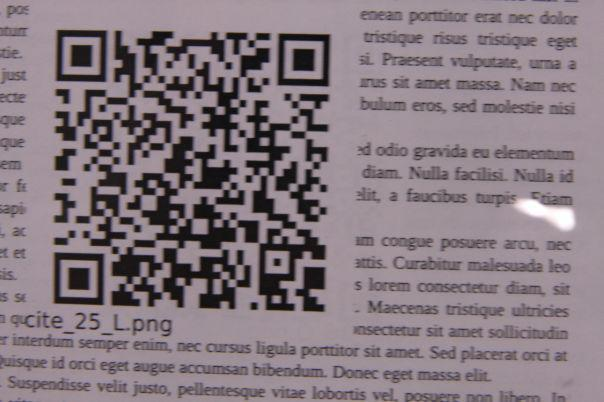Finder pattern: (275, 28, 336, 91), (49, 248, 110, 309), (53, 27, 112, 84)
